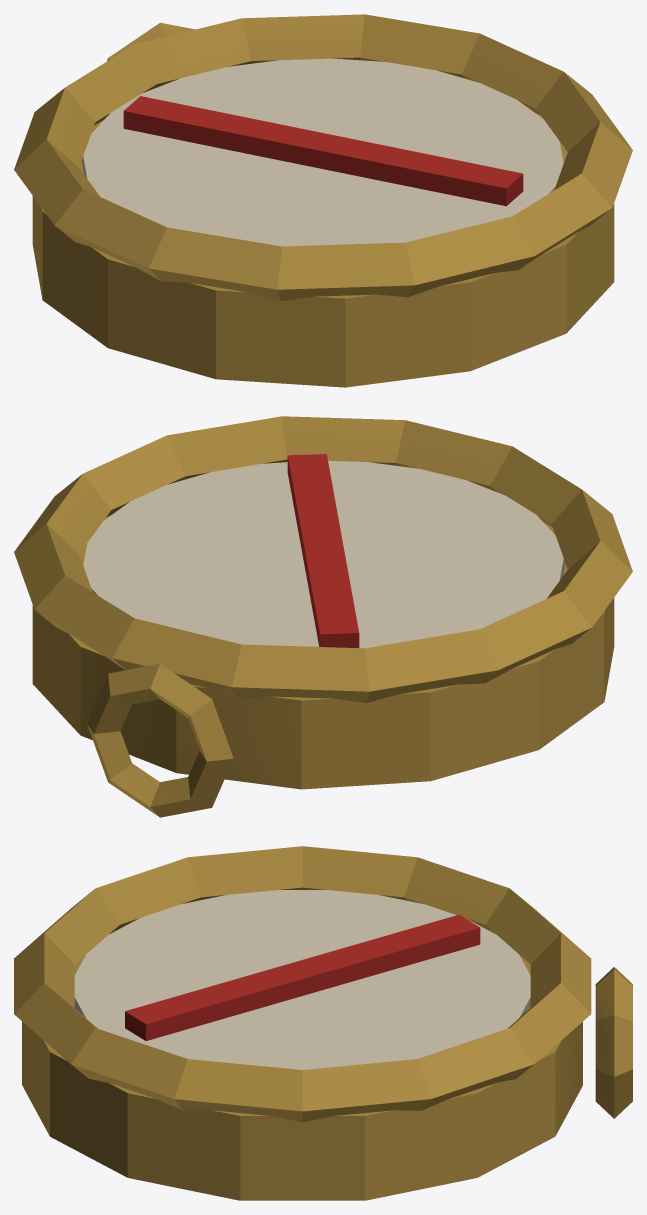
File: Compass.fbx
3 renders of one model, top to bottom at view 1: azimuth 30°, elevation 25°; view 2: azimuth 150°, elevation 25°; view 3: azimuth 270°, elevation 25°, orthographic. The views are drawn at different scales.
Visible parts, largest first — view 1: Compass; view 2: Compass; view 3: Compass.
Boxes of the visible parts, box(x1,y1,x2,y2) form: Compass: box(14, 14, 632, 387); Compass: box(14, 416, 632, 817); Compass: box(14, 846, 632, 1200).
Size of the model in its own units: 0.19 by 0.056 by 0.1986.
